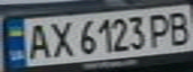1: (93, 16, 115, 54)
2: (112, 15, 130, 53)
3: (127, 12, 148, 51)
6: (75, 16, 96, 55)
A: (21, 20, 54, 61)
B: (163, 8, 193, 47)
P: (145, 10, 175, 48)
X: (45, 18, 75, 58)
